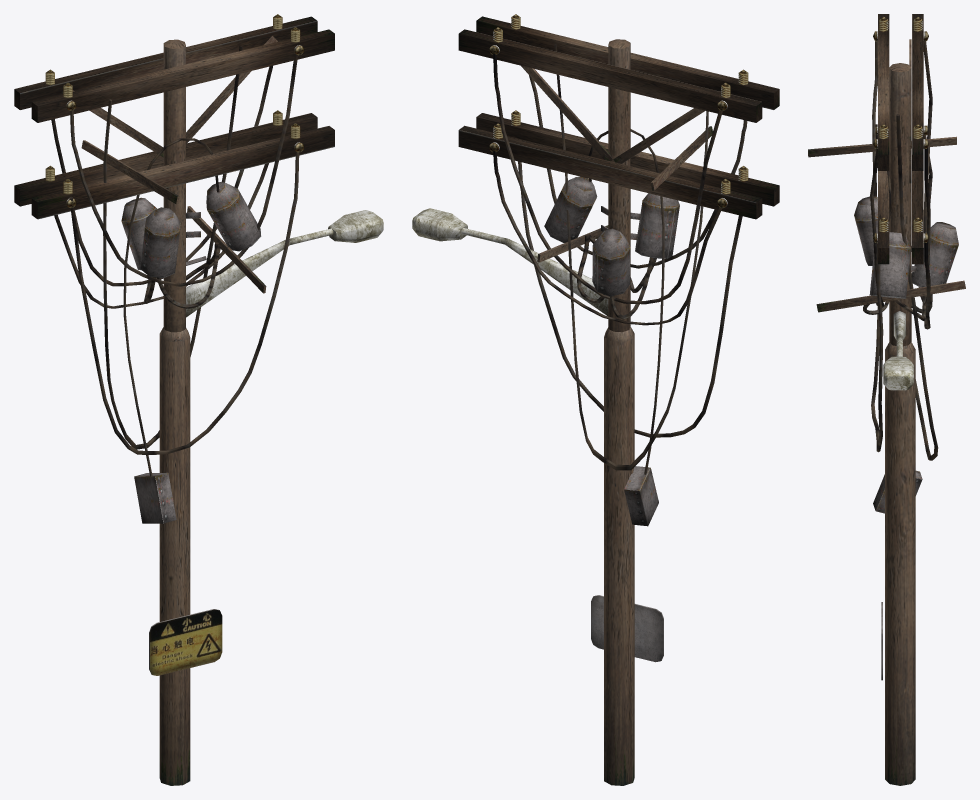
The model's file is Landline01.fbx.
3 views of the same model, side by side, from view 1: azimuth 30°, elevation 25°; view 2: azimuth 150°, elevation 25°; view 3: azimuth 270°, elevation 25° (orthographic). The views are drawn at different scales.
Parts seen in each view (by area): view 1: Landline1; view 2: Landline1; view 3: Landline1.
Part boxes in pixels (x1,y1,x2,y2): Landline1: [14, 14, 383, 785]; Landline1: [412, 14, 779, 785]; Landline1: [808, 14, 965, 785].
Bounding box in the file's own units: 138 × 279 × 55.69.
